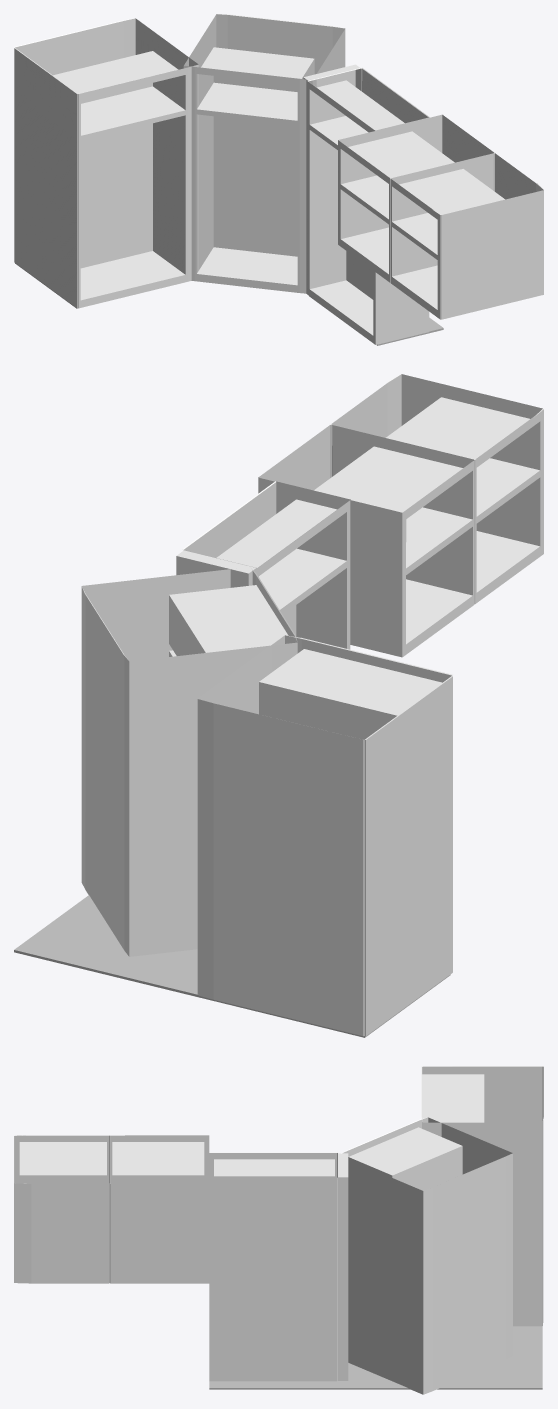
3 renders of one model, top to bottom at view 1: azimuth 30°, elevation 25°; view 2: azimuth 150°, elevation 25°; view 3: azimuth 270°, elevation 25°, orthographic. The views are drawn at different scales.
Parts seen in each view (by area): view 1: Cube.421_ba78445a; view 2: Cube.421_ba78445a; view 3: Cube.421_ba78445a.
Boxes of the visible parts, box(x1,y1,x2,y2) form: Cube.421_ba78445a: box(14, 14, 543, 345); Cube.421_ba78445a: box(14, 374, 543, 1037); Cube.421_ba78445a: box(14, 1066, 543, 1394).
Size of the model in its own units: 1.48 by 1.14 by 2.65.
